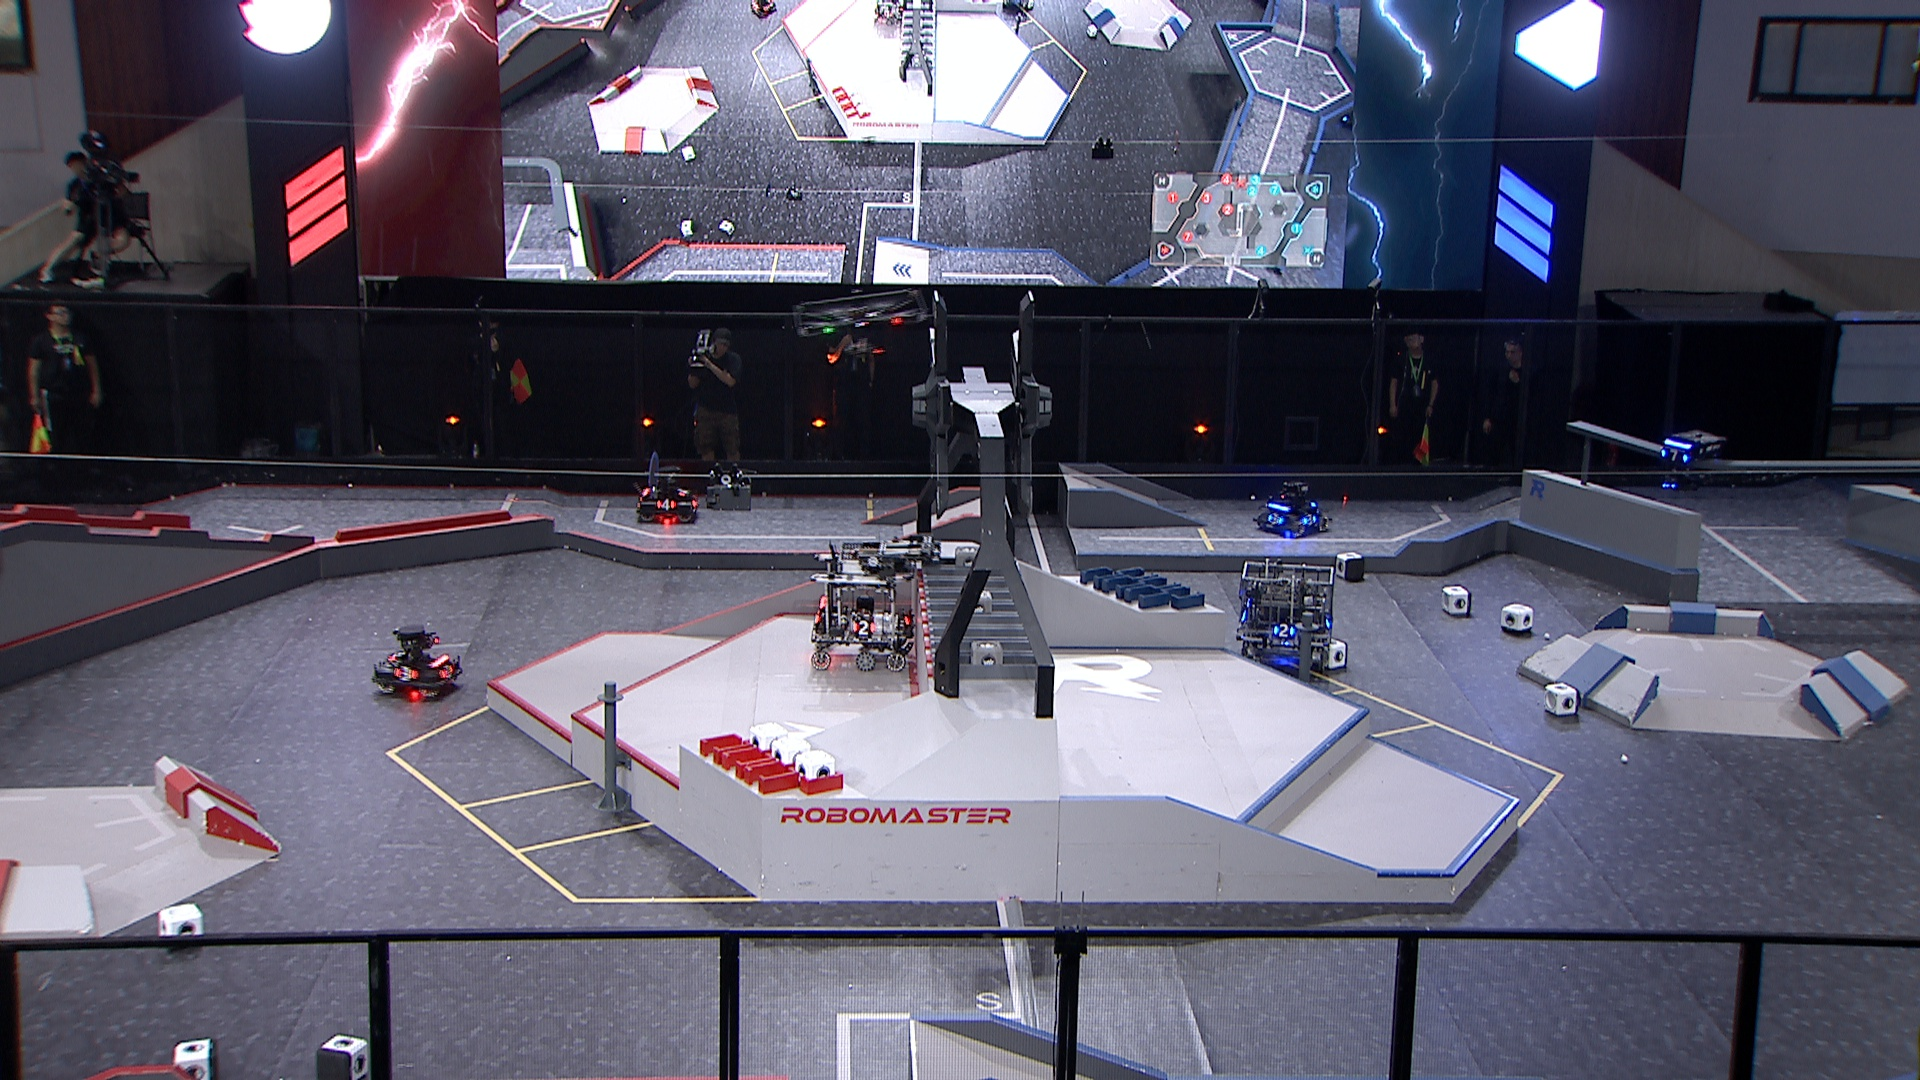armor: (1659, 447, 1689, 465), (1271, 621, 1298, 640), (392, 665, 419, 680), (852, 618, 877, 636), (655, 496, 679, 513), (438, 662, 456, 680), (1266, 510, 1284, 526), (1299, 513, 1319, 527), (674, 485, 690, 498)
car: (806, 541, 916, 673), (1233, 560, 1335, 678), (368, 622, 462, 702), (1249, 480, 1328, 537), (636, 469, 700, 524)
ignore: (873, 0, 906, 25)
watcher: (1656, 427, 1724, 495)
